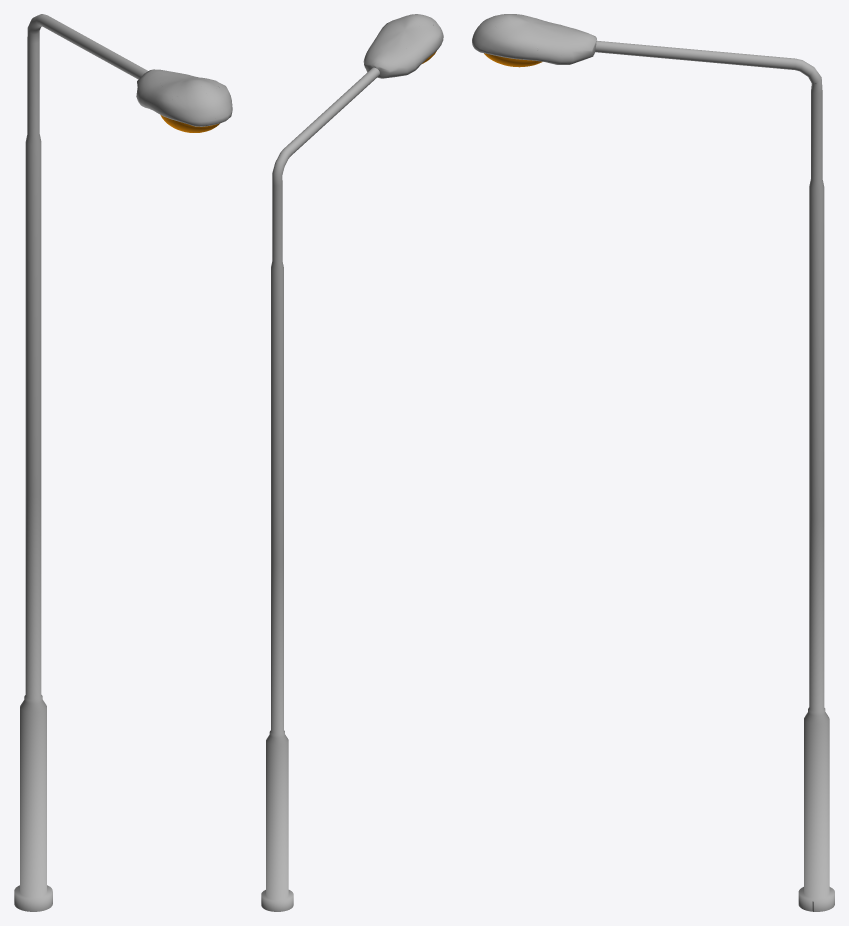
File: lightpoke.glb
3 views of the same model, side by side, from view 1: azimuth 30°, elevation 25°; view 2: azimuth 150°, elevation 25°; view 3: azimuth 270°, elevation 25° (orthographic). The views are drawn at different scales.
Visible parts, largest first — view 1: Circle, Sphere; view 2: Circle, Sphere; view 3: Circle, Sphere.
Part boxes in pixels (left/top/right/bottom): Circle: left=14, top=14, right=147, bottom=911; Sphere: left=136, top=69, right=232, bottom=126; Circle: left=261, top=67, right=379, bottom=911; Sphere: left=363, top=14, right=443, bottom=78; Circle: left=595, top=40, right=834, bottom=911; Sphere: left=472, top=14, right=596, bottom=64.
Size of the model in its own units: 3.37 by 45.8 by 16.97.
3 materials, 3 textured.
